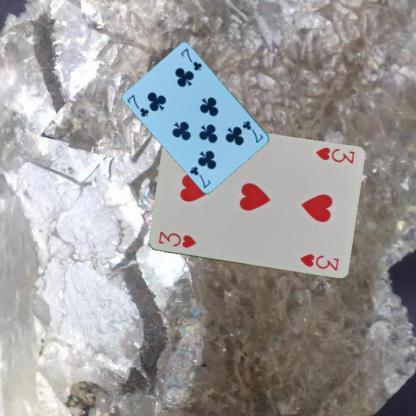3h: (312, 144, 356, 166), (155, 228, 197, 249)
7c: (124, 92, 150, 118), (240, 118, 264, 144)
